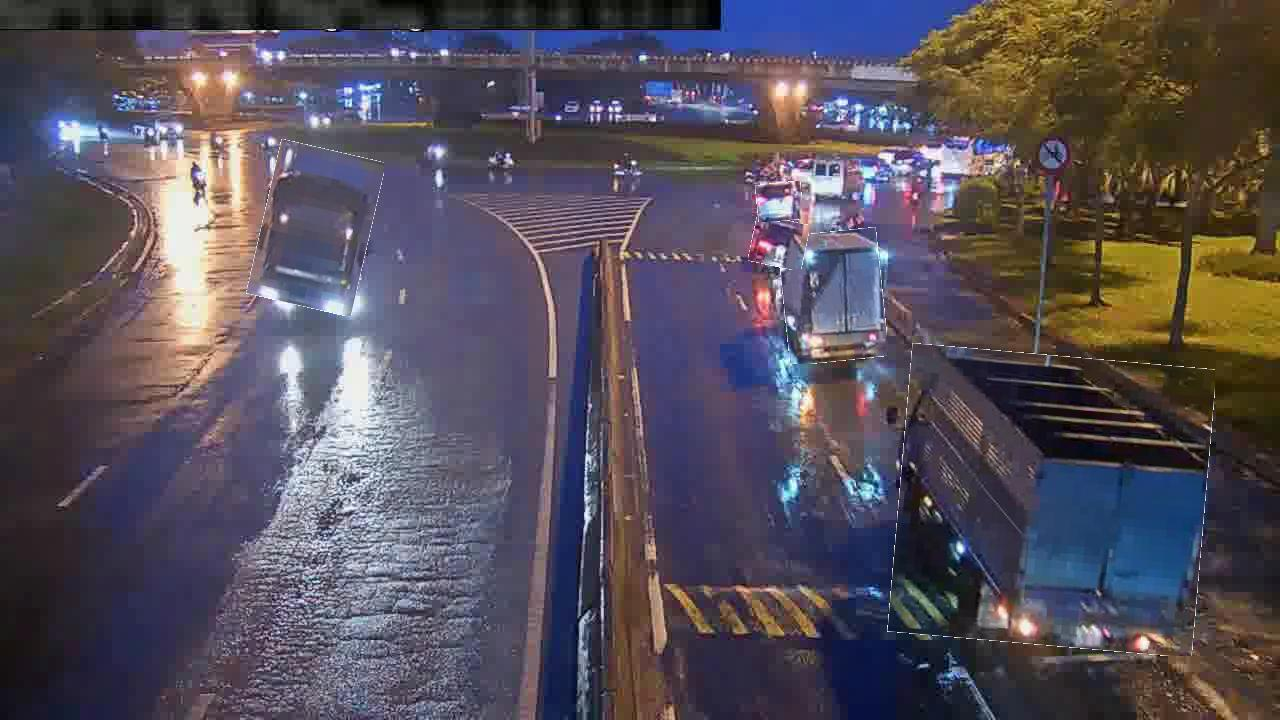8: (893, 350, 1210, 651), (254, 144, 377, 312), (780, 230, 885, 363)
container: (750, 217, 808, 269), (756, 182, 803, 222)
